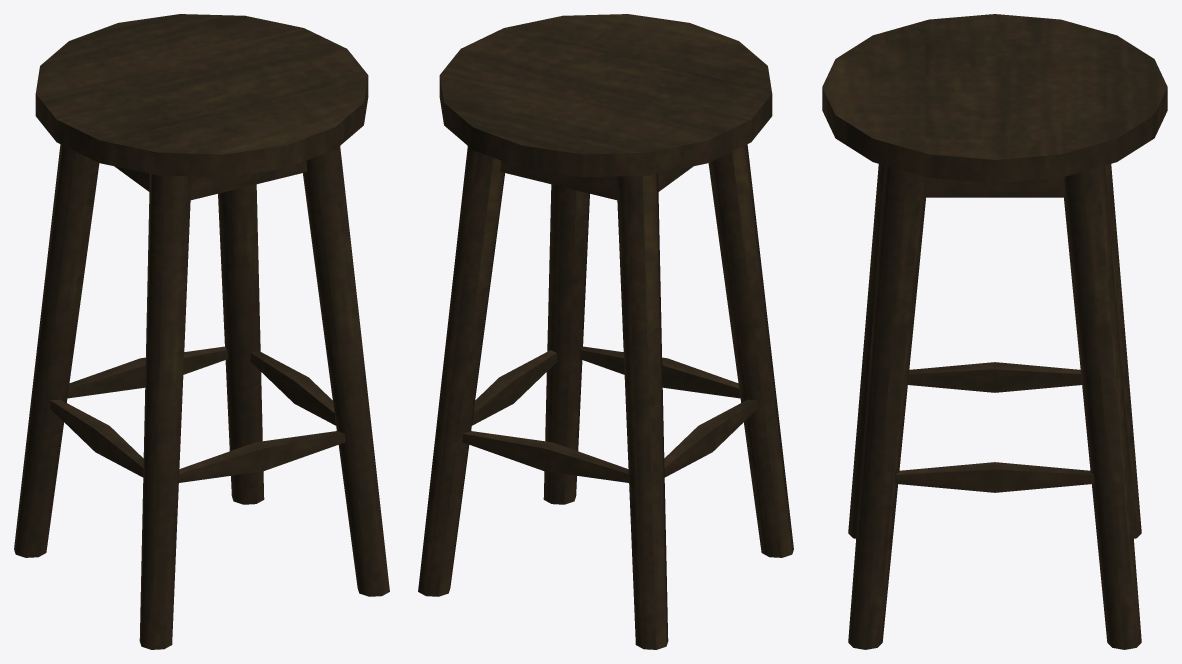
The model's file is chair_mp_2_3.fbx.
3 views of the same model, side by side, from view 1: azimuth 30°, elevation 25°; view 2: azimuth 150°, elevation 25°; view 3: azimuth 270°, elevation 25° (orthographic). The views are drawn at different scales.
Visible parts, largest first — view 1: chair_mp_2_3; view 2: chair_mp_2_3; view 3: chair_mp_2_3.
Part boxes in pixels (bbox=[...]): chair_mp_2_3: bbox=[14, 14, 389, 649]; chair_mp_2_3: bbox=[418, 14, 793, 649]; chair_mp_2_3: bbox=[822, 14, 1167, 649].
Size of the model in its own units: 0.4 by 0.4 by 0.64.
